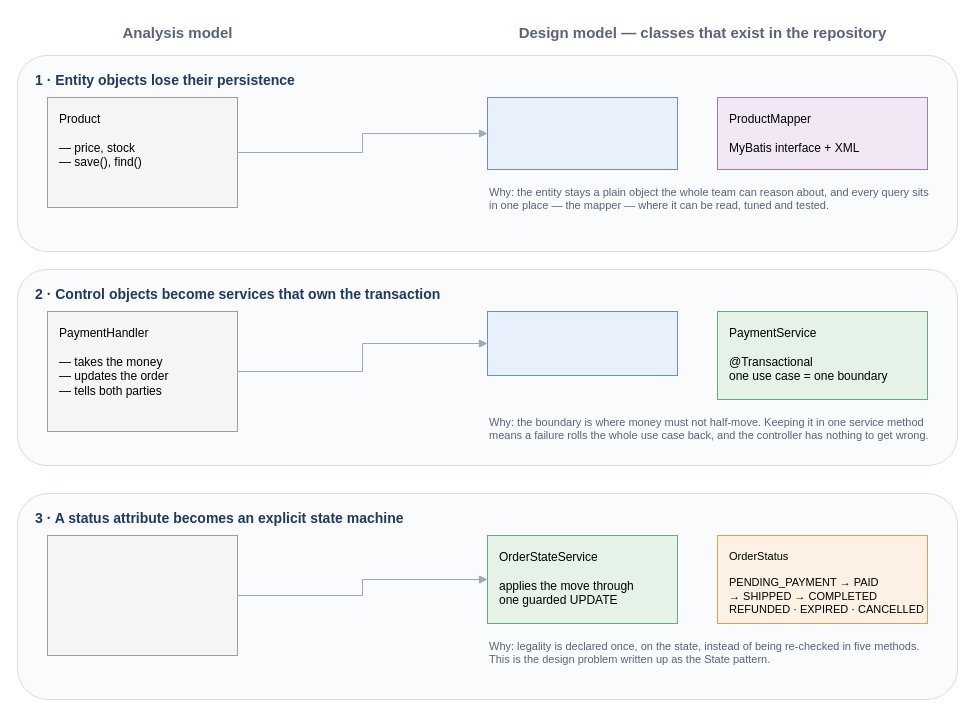
Some shapes in this 975 by 717 pixel diagram are drawn without their labels. Each missing label, with the box of its shape:
Order — status : String — if/else in every method that moves it: (46, 534, 238, 656)
OrderController protocol only: (486, 310, 678, 376)
Product (entity) state only: (486, 96, 678, 170)
